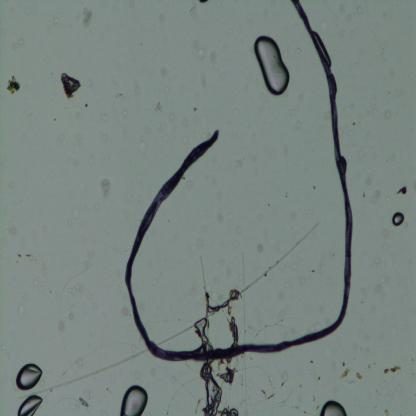Air bubble: (252, 36, 291, 97), (14, 358, 44, 394), (118, 383, 148, 416), (319, 396, 349, 416), (17, 394, 43, 414), (392, 211, 406, 228)
Background material: (196, 359, 260, 416), (30, 252, 53, 294), (58, 70, 82, 100), (82, 241, 100, 271), (98, 176, 114, 202), (374, 272, 391, 296), (190, 39, 206, 61), (65, 276, 80, 298), (6, 76, 22, 95), (80, 8, 95, 28), (137, 133, 148, 158), (383, 362, 402, 376), (369, 188, 382, 207), (258, 386, 275, 400), (15, 299, 28, 316), (208, 50, 218, 71), (10, 37, 23, 50), (152, 99, 164, 113), (340, 365, 351, 380), (15, 250, 31, 260), (56, 320, 67, 334), (396, 184, 408, 196), (120, 304, 129, 317), (354, 371, 364, 382), (80, 397, 90, 407), (99, 112, 109, 122), (197, 0, 208, 5), (258, 244, 264, 253)
Cotton: (124, 0, 354, 363)
Glass filter fibre: (157, 219, 318, 345), (35, 348, 149, 397), (198, 254, 210, 338), (240, 251, 248, 345)
